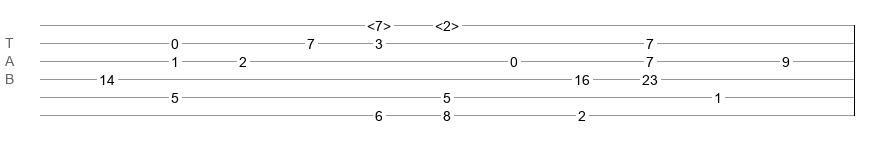0: (171, 36, 179, 46), (510, 54, 518, 64)
1: (171, 54, 179, 64), (714, 90, 722, 100)
14: (99, 72, 115, 82)
16: (574, 72, 590, 82)
2: (239, 54, 247, 64), (578, 108, 586, 118)
23: (642, 72, 658, 82)
3: (375, 36, 383, 46)
5: (171, 90, 179, 100), (443, 90, 451, 100)
6: (375, 108, 383, 118)
7: (307, 36, 315, 46), (646, 36, 654, 46), (646, 54, 654, 64)
8: (443, 108, 451, 118)
9: (782, 54, 790, 64)
harmonic: (367, 18, 391, 28), (435, 18, 459, 28)
